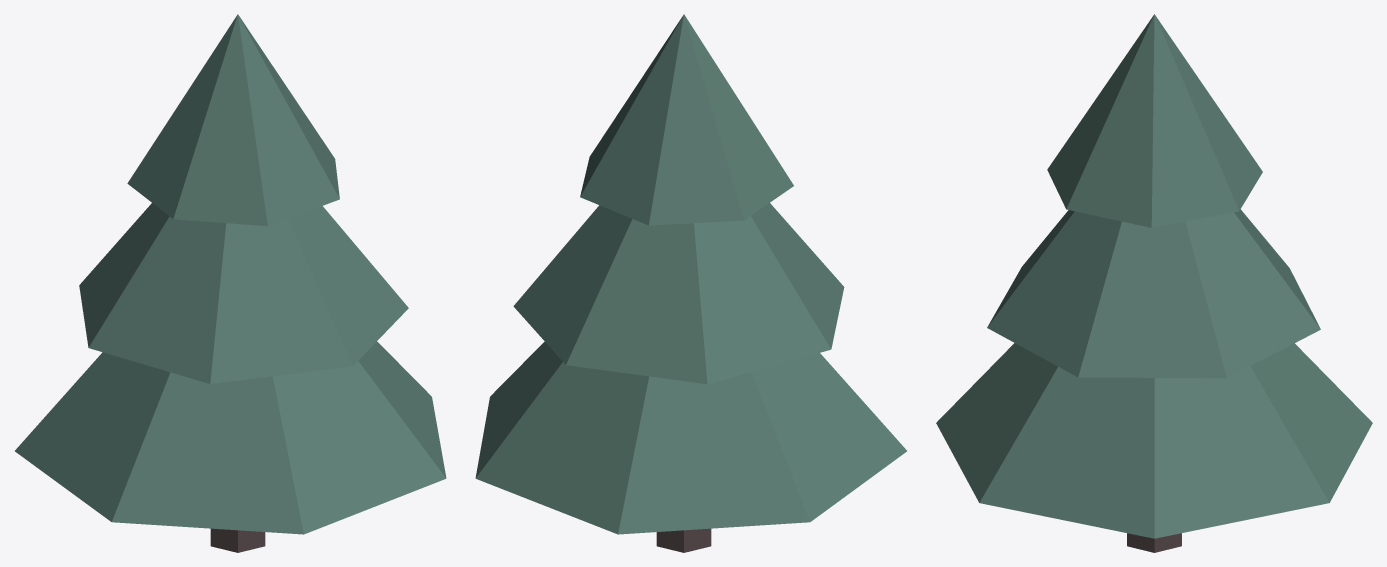
File: pine.glb
The picture shows the model from 3 angles, left to right: view 1: azimuth 30°, elevation 25°; view 2: azimuth 150°, elevation 25°; view 3: azimuth 270°, elevation 25°; orthographic projection.
Parts seen in each view (by area): view 1: Low, Mid, Tip, Trunk; view 2: Low, Mid, Tip, Trunk; view 3: Low, Mid, Tip, Trunk.
Part boxes in pixels (x1,y1,x2,y2): Low: (15, 341, 446, 534); Mid: (79, 203, 408, 383); Tip: (127, 14, 339, 226); Trunk: (210, 528, 265, 552); Low: (475, 341, 906, 534); Mid: (513, 203, 844, 384); Tip: (580, 14, 793, 225); Trunk: (656, 528, 711, 552); Low: (936, 343, 1372, 538); Mid: (987, 209, 1320, 378); Tip: (1047, 14, 1262, 227); Trunk: (1127, 533, 1181, 552).
Size of the model in its own units: 1.62 by 2.2 by 1.66.
